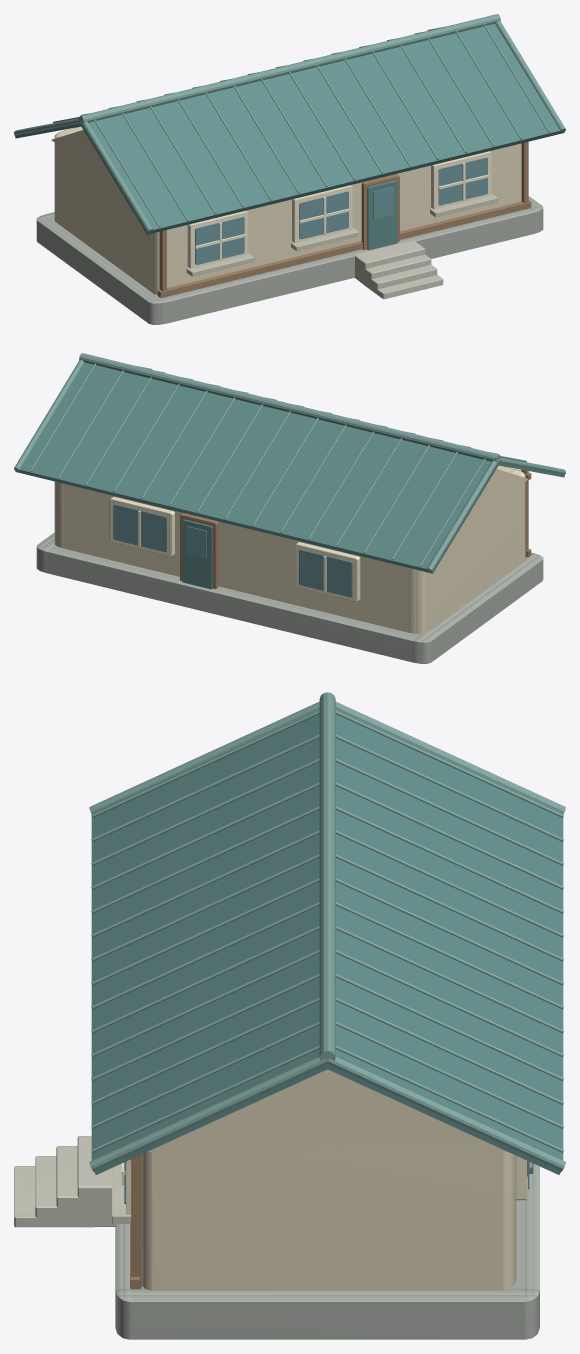
Rendered from SM_Station.fbx.
3 views of the same model, one above another, from view 1: azimuth 30°, elevation 25°; view 2: azimuth 150°, elevation 25°; view 3: azimuth 270°, elevation 25° (orthographic). The views are drawn at different scales.
Visible parts, largest first — view 1: SM_Station; view 2: SM_Station; view 3: SM_Station.
Boxes of the visible parts, x1,y1,x2,y2 form: SM_Station: (14, 14, 565, 324); SM_Station: (14, 353, 565, 663); SM_Station: (14, 692, 565, 1339).
Size of the model in its own units: 1804 by 1170 by 703.
